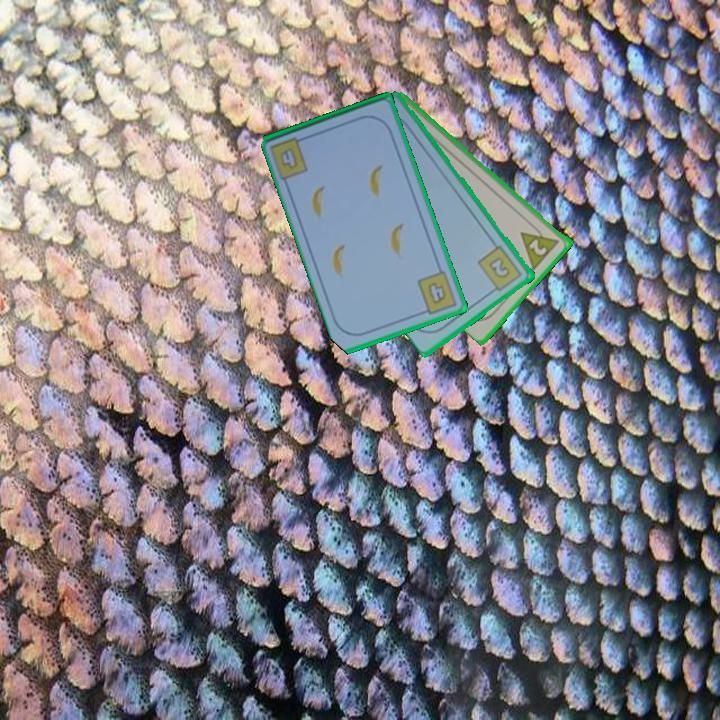2b: (475, 242, 525, 296)
2p: (517, 219, 563, 272)
4b: (414, 267, 460, 318), (277, 144, 301, 172)
